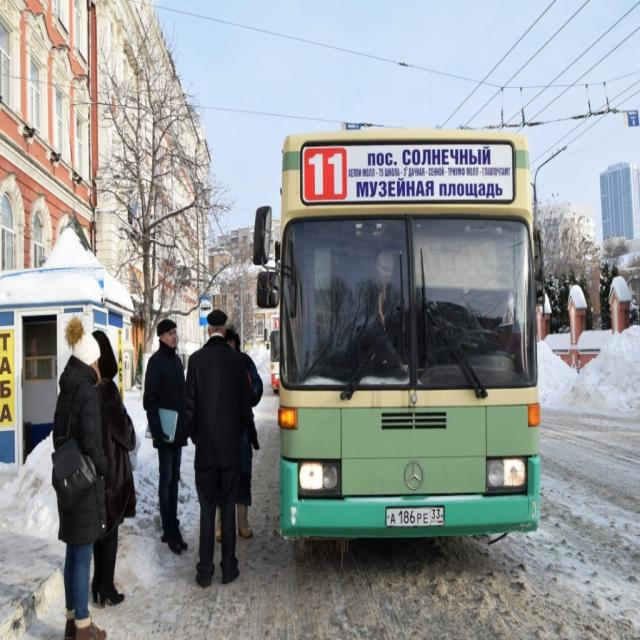number-of-bus: (306, 146, 346, 201)
